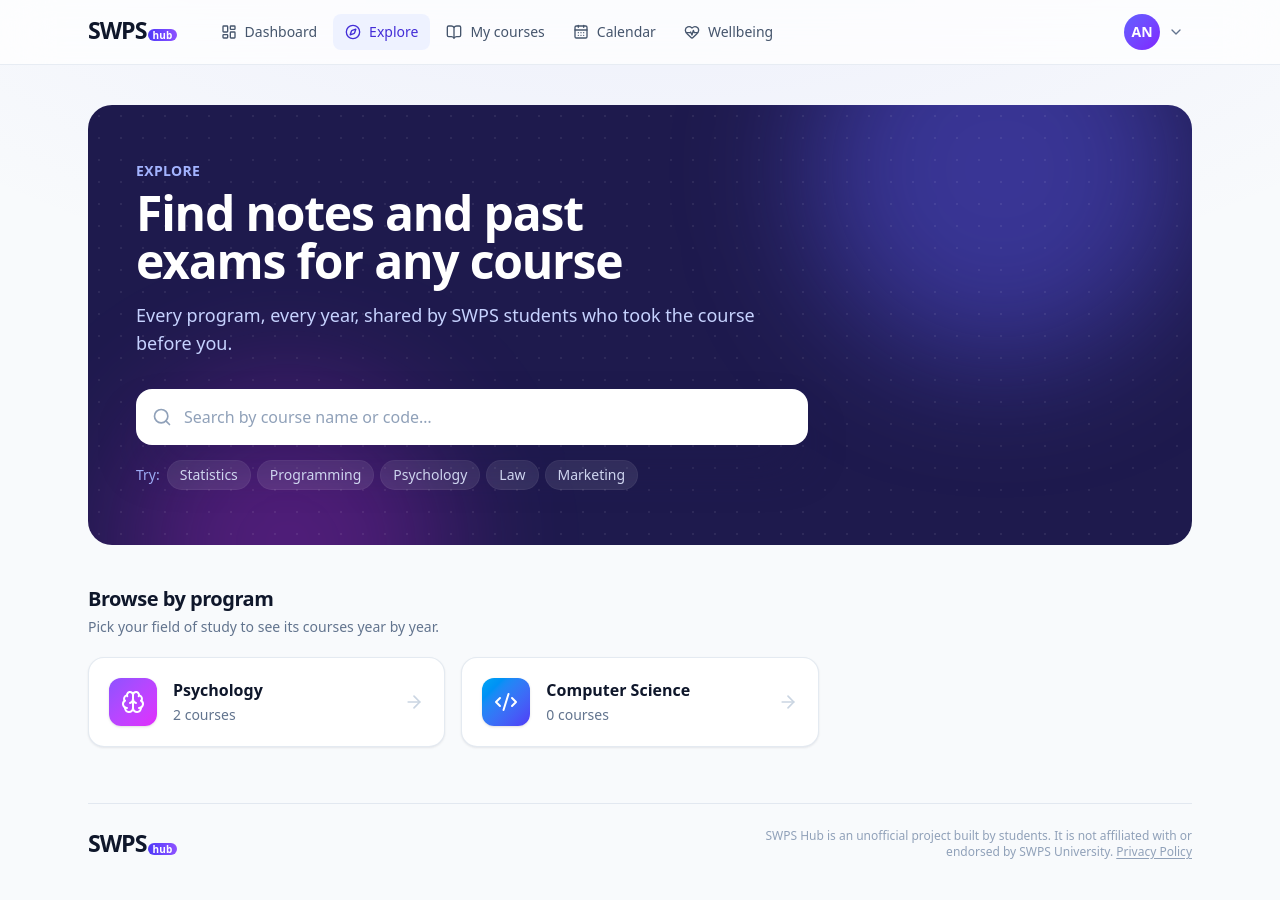
it: courses › searches courses across all programs from the explore page
Check: the link "Psychology 2 courses" is shown, box [88, 657, 445, 747]
Type "stat" into the search field named "Search courses". click: [472, 417]
box: [136, 389, 808, 445]
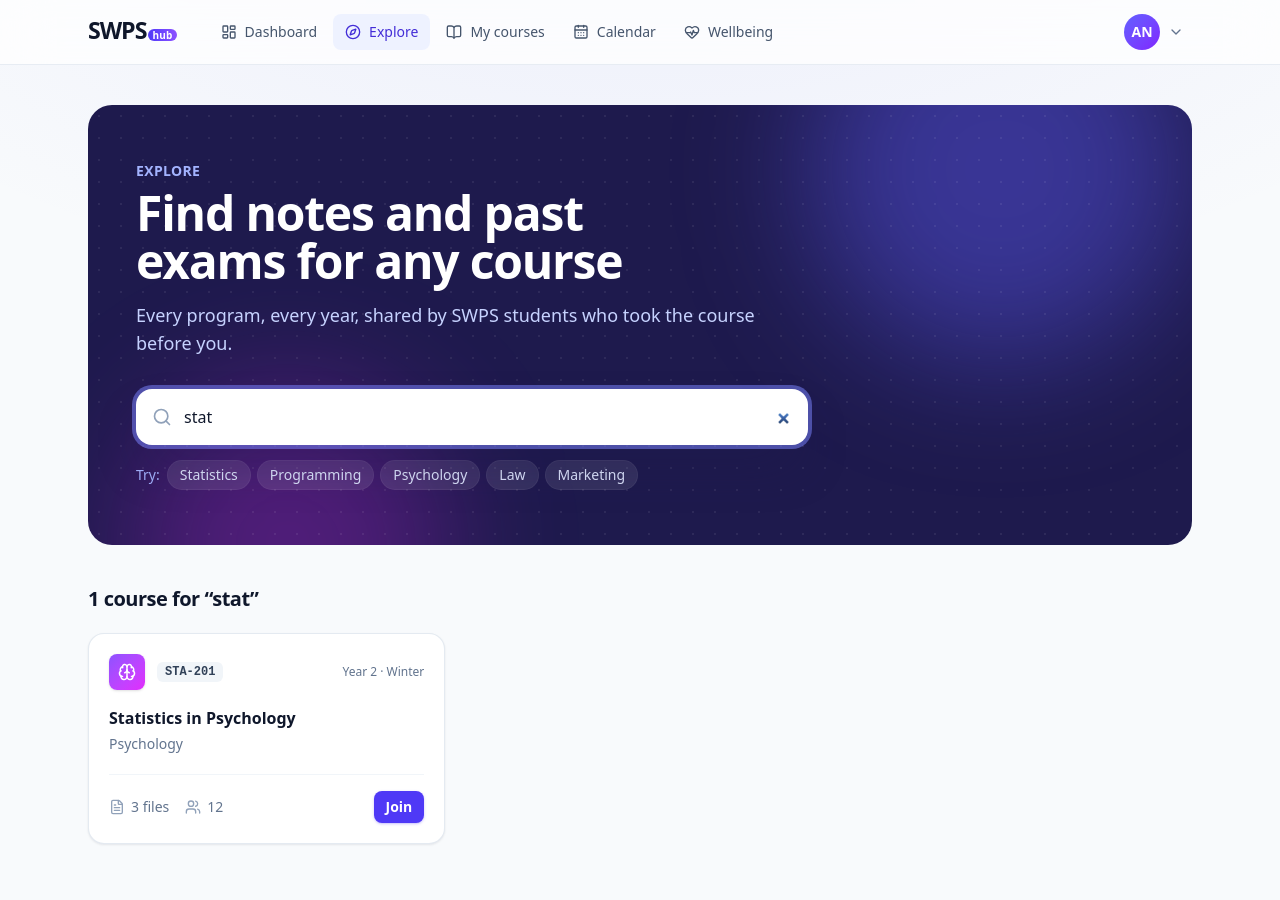
Check: the link "Statistics in Psychology" is shown, box [109, 707, 296, 729]
